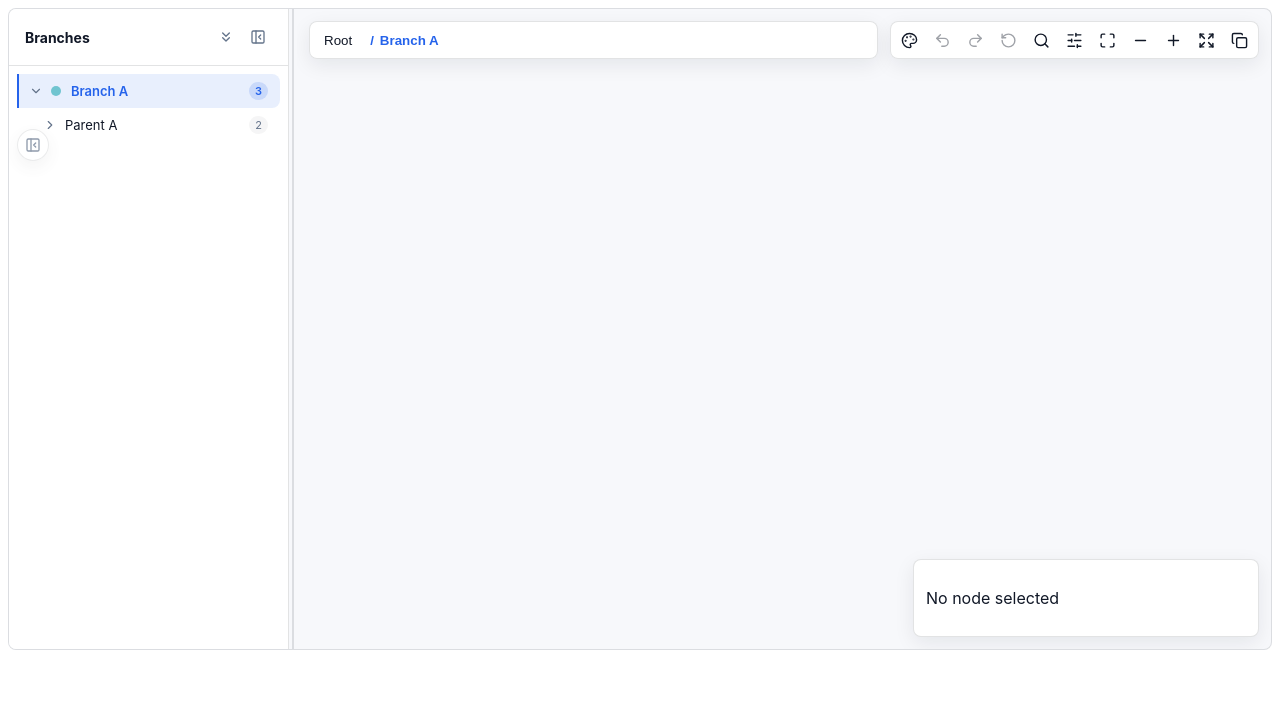
it: @my-mind-node/react › cycles branch tree expansion through default, expanded, compact, and collapsed states
The image size is (1280, 720).
Expected: the number of list items with class "mmn-branch-list-item" is 2, left=17, top=74, right=280, bottom=108; left=43, top=116, right=268, bottom=134
Step 1. Click the button named "Expand all branches" → [226, 37], box left=212, top=23, right=240, bottom=51
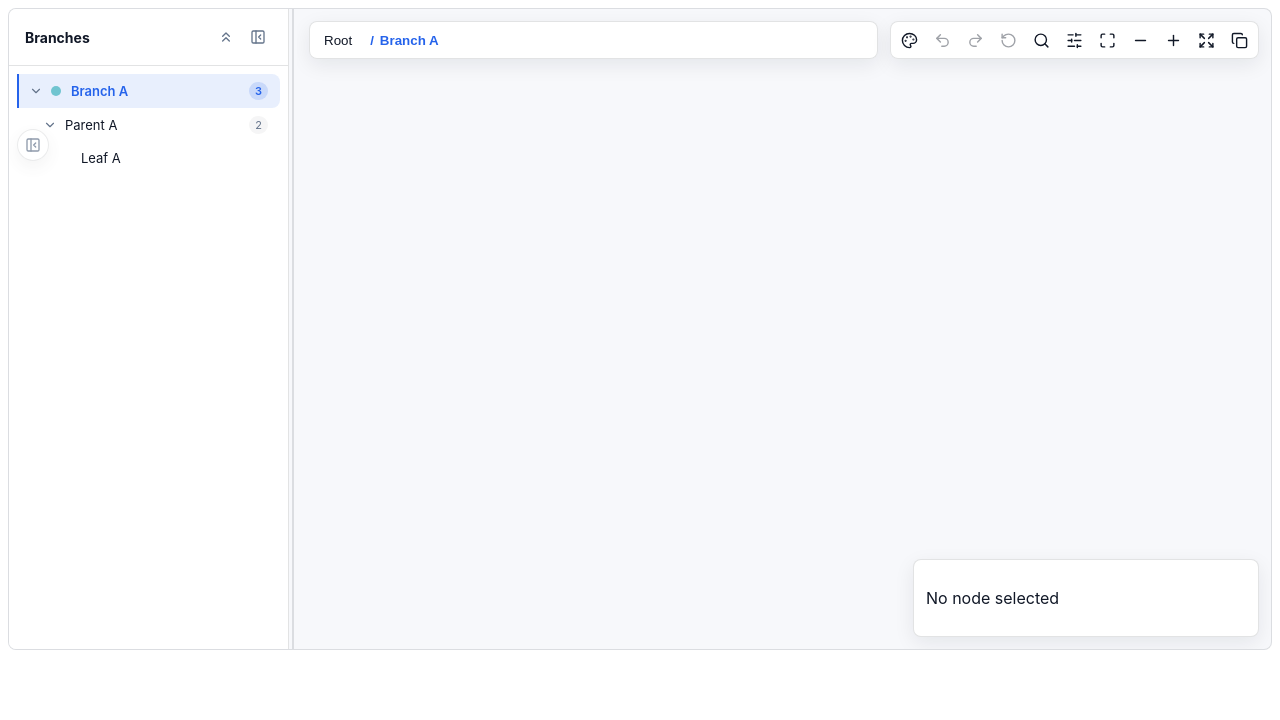
Result: the number of list items with class "mmn-branch-list-item" is 3 at left=17, top=74, right=280, bottom=108; left=43, top=116, right=268, bottom=134; left=81, top=150, right=121, bottom=166
Step 2. Click the button named "Collapse single-count branches" → [226, 37], box left=212, top=23, right=240, bottom=51
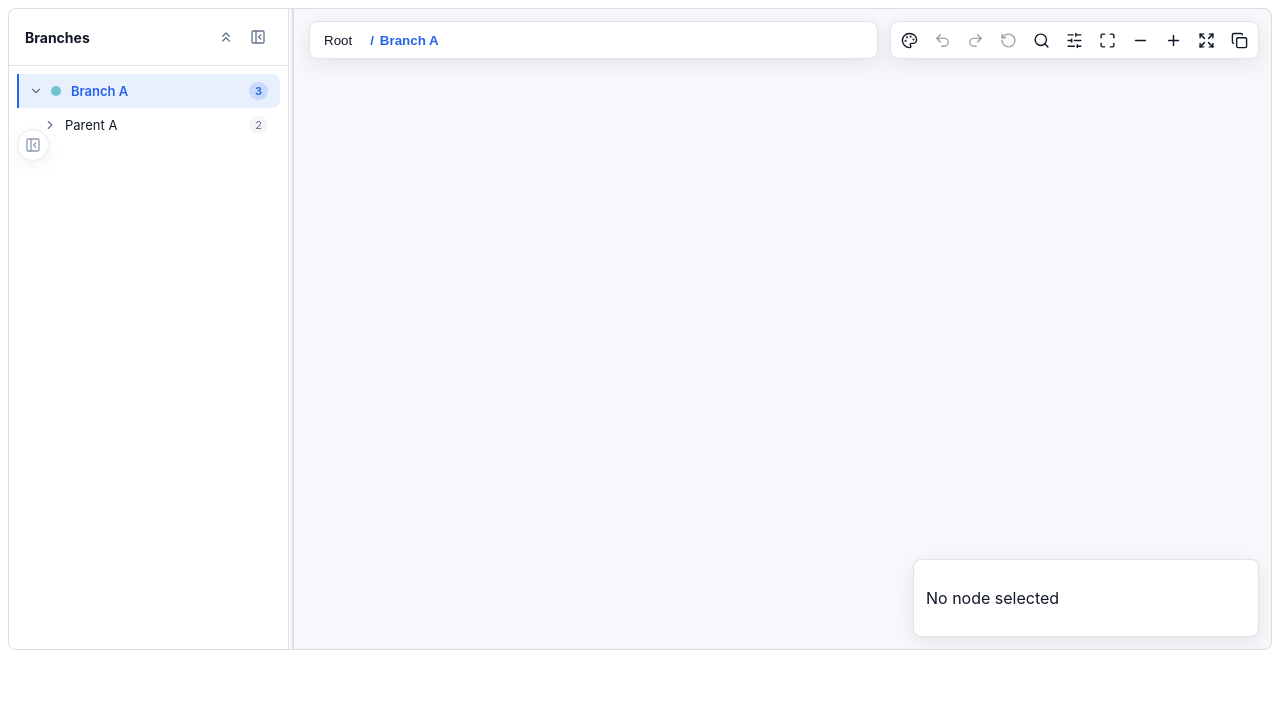
Result: the number of list items with class "mmn-branch-list-item" is 2 at left=17, top=74, right=280, bottom=108; left=43, top=116, right=268, bottom=134
Step 3. Click the button named "Collapse all branches" → [226, 37], box left=212, top=23, right=240, bottom=51
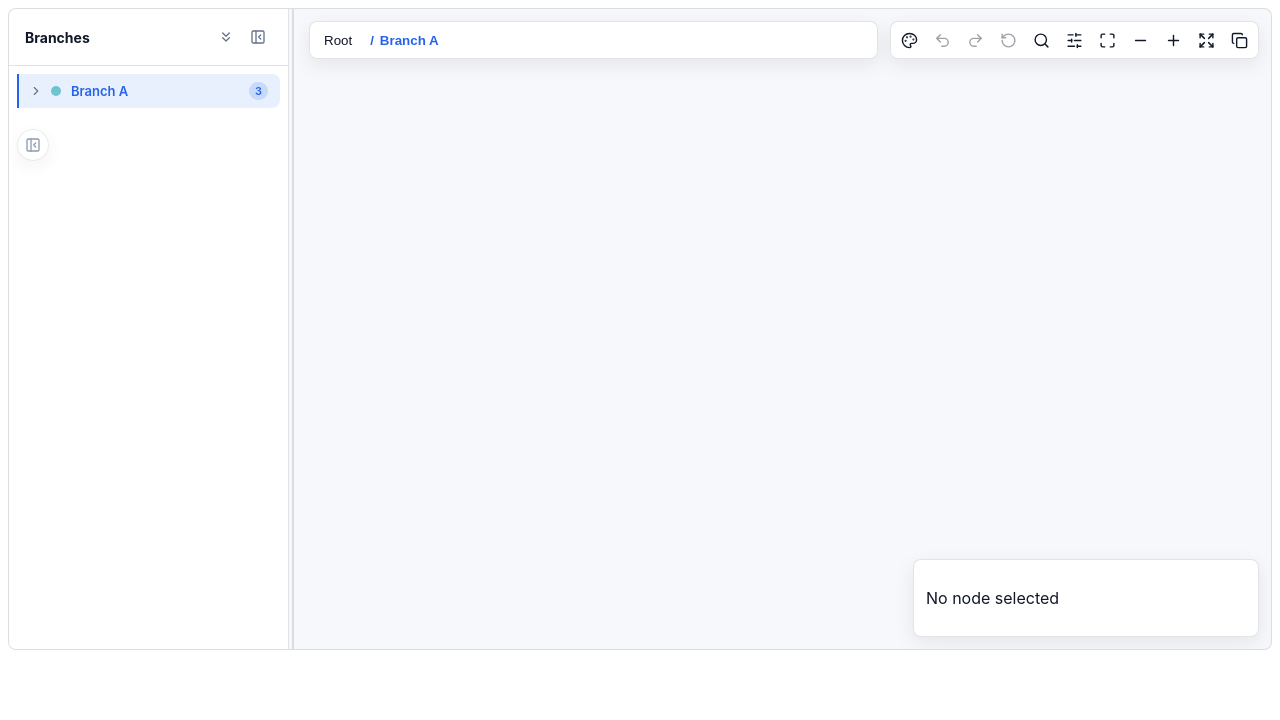
Result: the number of list items with class "mmn-branch-list-item" is 1 at left=17, top=74, right=280, bottom=108
Step 4. Click the button named "Restore default branch expansion" → [226, 37], box left=212, top=23, right=240, bottom=51
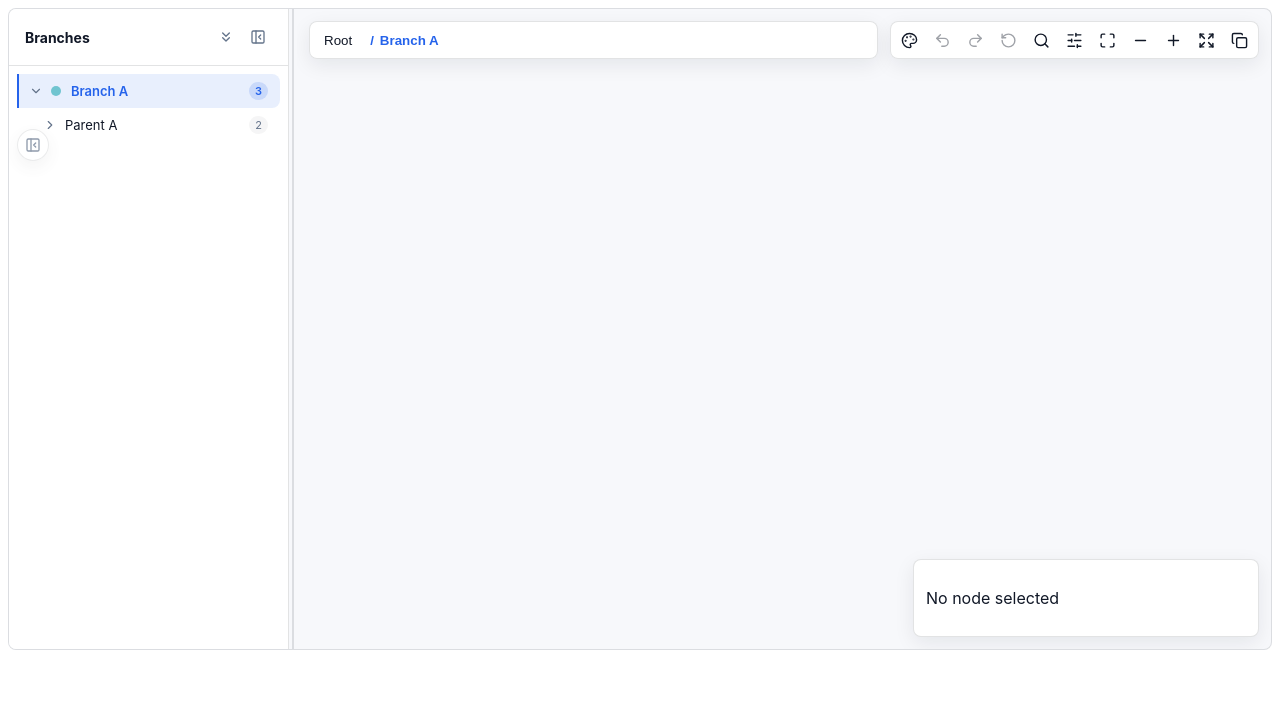
Result: the number of list items with class "mmn-branch-list-item" is 2 at left=17, top=74, right=280, bottom=108; left=43, top=116, right=268, bottom=134
